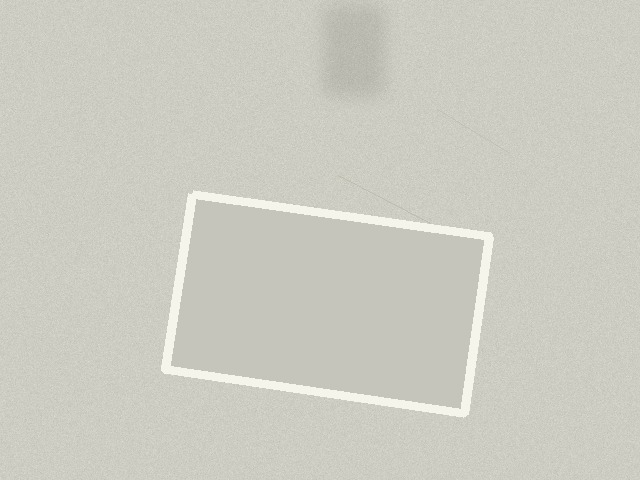parking_area: (165, 194, 489, 413)
